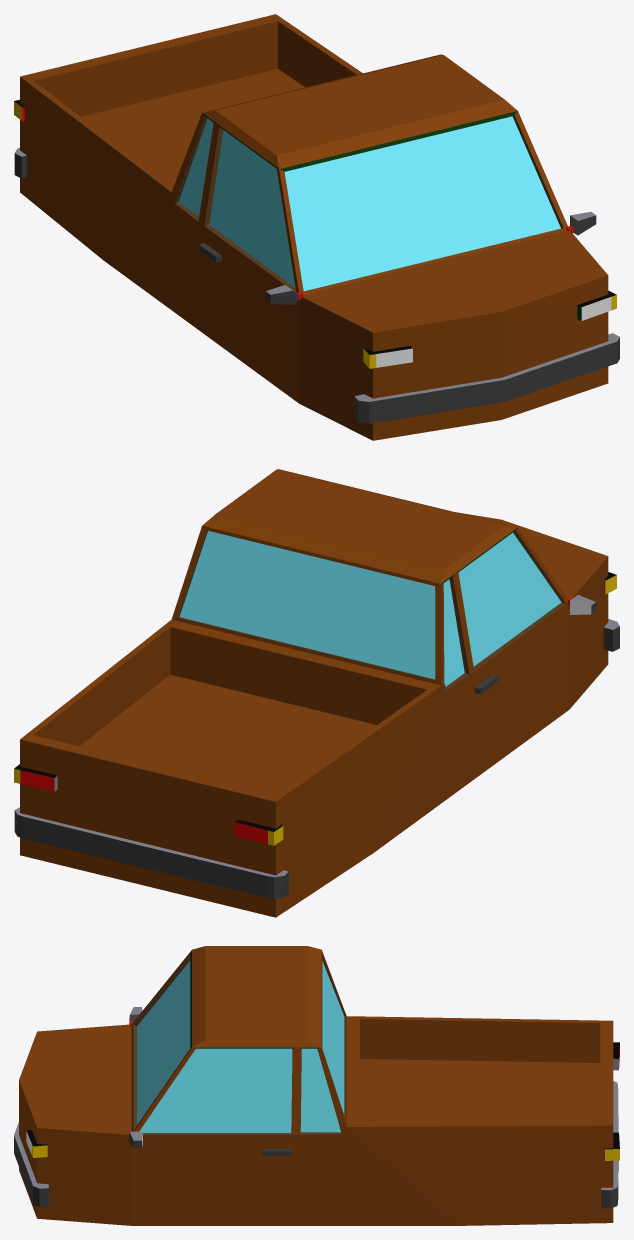
File: Brown_truck.glb
The picture shows the model from 3 angles, top to bottom: view 1: azimuth 30°, elevation 25°; view 2: azimuth 150°, elevation 25°; view 3: azimuth 270°, elevation 25°; orthographic projection. The views are drawn at different scales.
Parts seen in each view (by area): view 1: TruckBrown1; view 2: TruckBrown1; view 3: TruckBrown1.
Part boxes in pixels (<box>): TruckBrown1: <box>14,14,619,440</box>; TruckBrown1: <box>14,469,619,917</box>; TruckBrown1: <box>14,946,619,1225</box>.
Bounding box in the file's own units: 4.53 × 3.09 × 8.69.
Materials: 1 (1 with a texture image).
